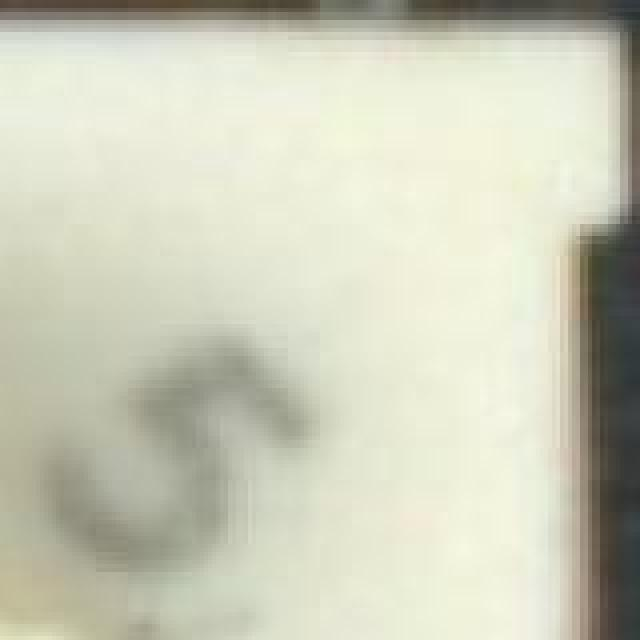potentiometer: (0, 40, 640, 640)
